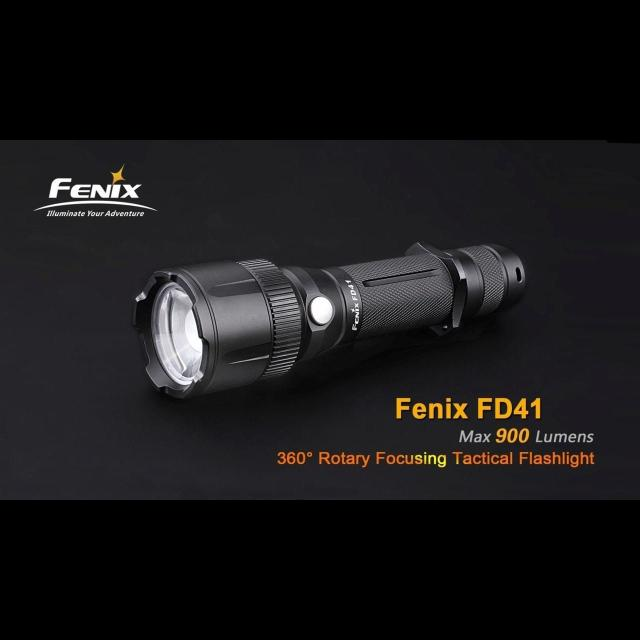Flashlight: (125, 235, 535, 409)
